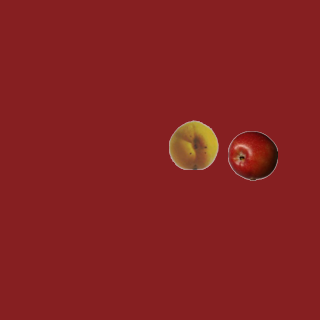Apple Braeburn: (227, 130, 277, 180)
Peach 2: (168, 119, 218, 169)
